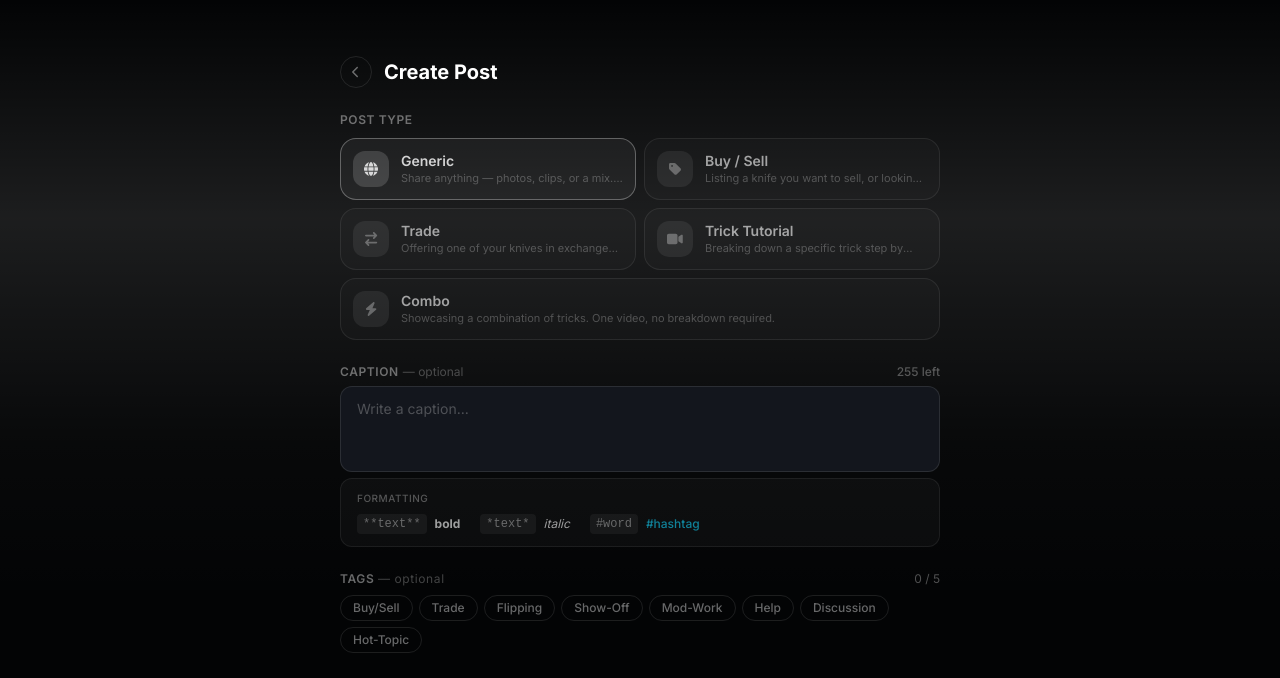
Test case: CreatePostPage — layout selection › switches to Combo and also restricts to a single video
The width and height of the screenshot is (1280, 678).
Step 1. Click the button "Showcasing a combination of tricks. One video, no breakdown required." → coordinates (640, 309), box [340,278,940,340]
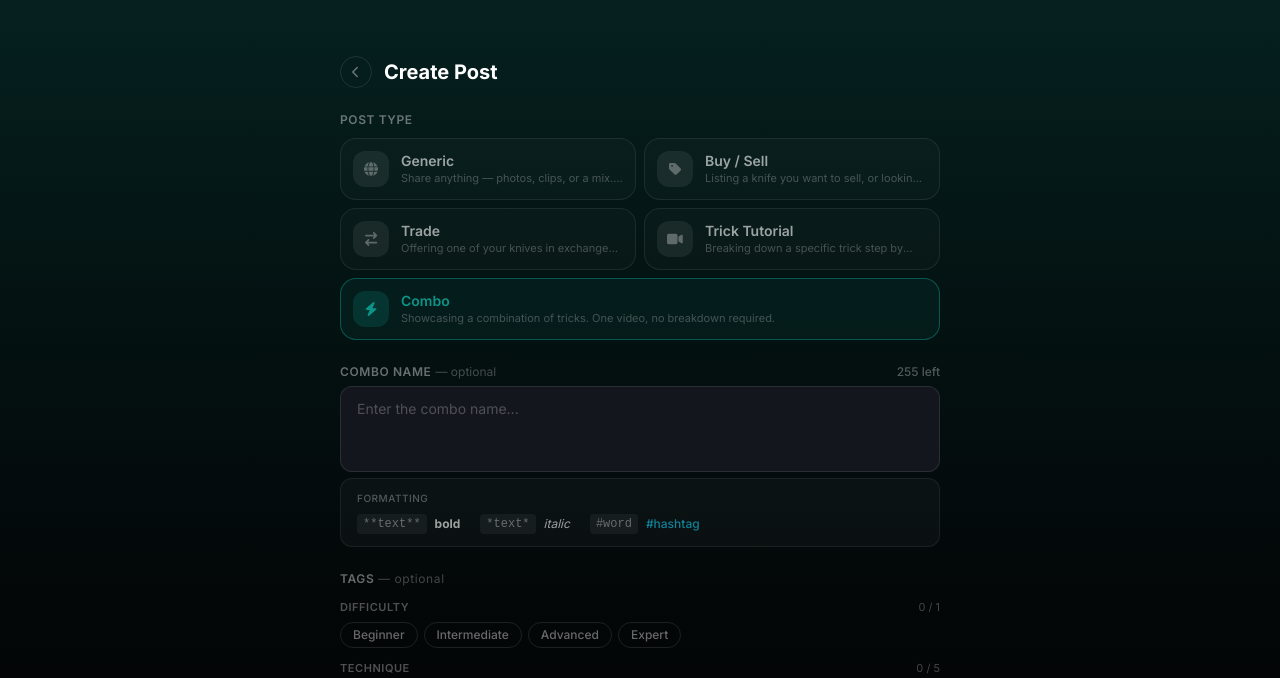
Expected: the text box with placeholder "Enter the combo name..." is shown, [340,386,940,472]
